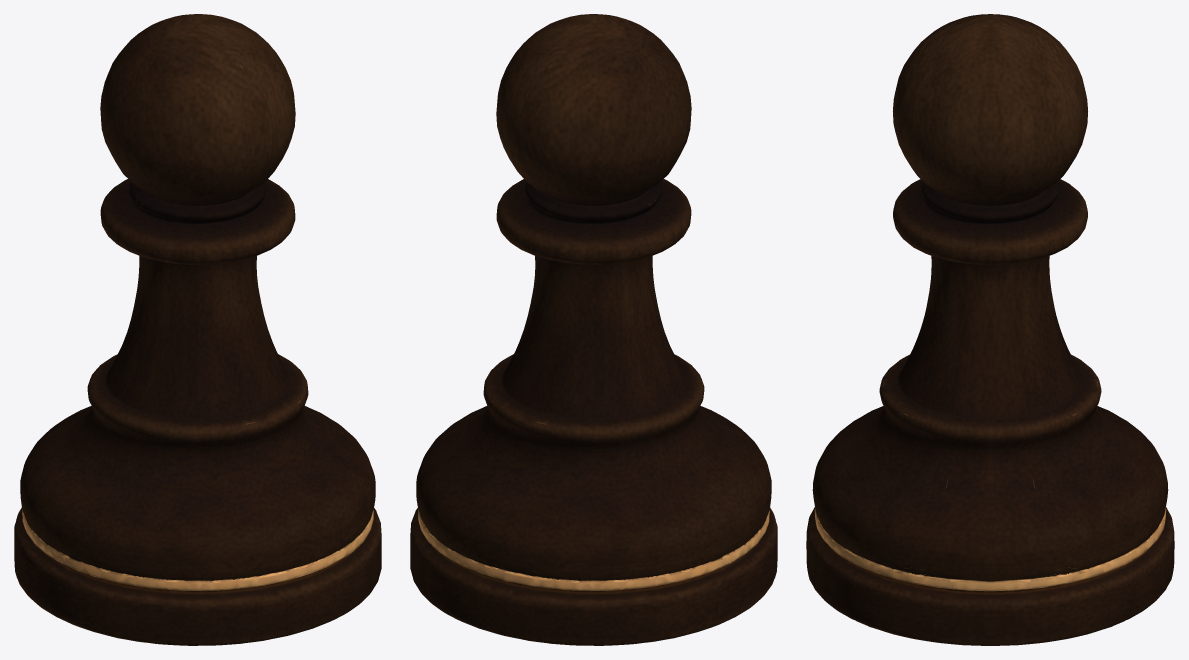
Rendered from 12_pawn_dark.glb.
3 renders of one model, left to right at view 1: azimuth 30°, elevation 25°; view 2: azimuth 150°, elevation 25°; view 3: azimuth 270°, elevation 25°, orthographic.
Parts seen in each view (by area): view 1: world; view 2: world; view 3: world.
Boxes of the visible parts, x1,y1,x2,y2 form: world: [14, 14, 381, 645]; world: [410, 14, 777, 645]; world: [806, 14, 1174, 645].
Size of the model in its own units: 0.6124 by 1 by 0.6125.
Materials: 1 (1 with a texture image).
